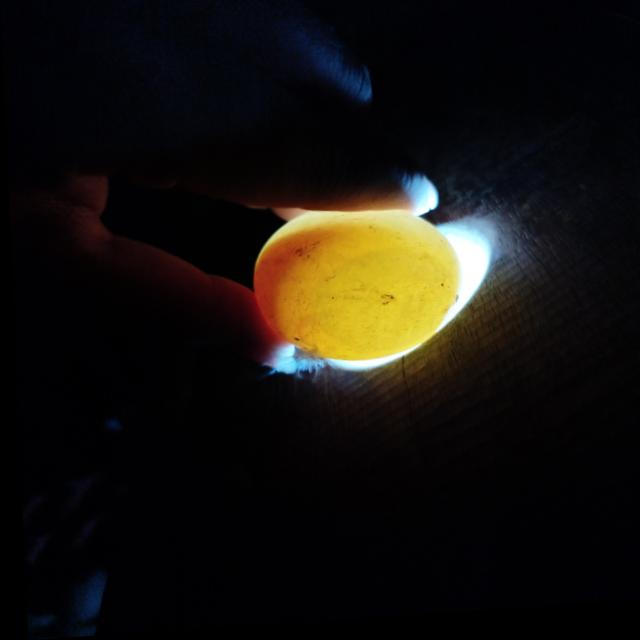Camara de Ar: (310, 256, 445, 355)
